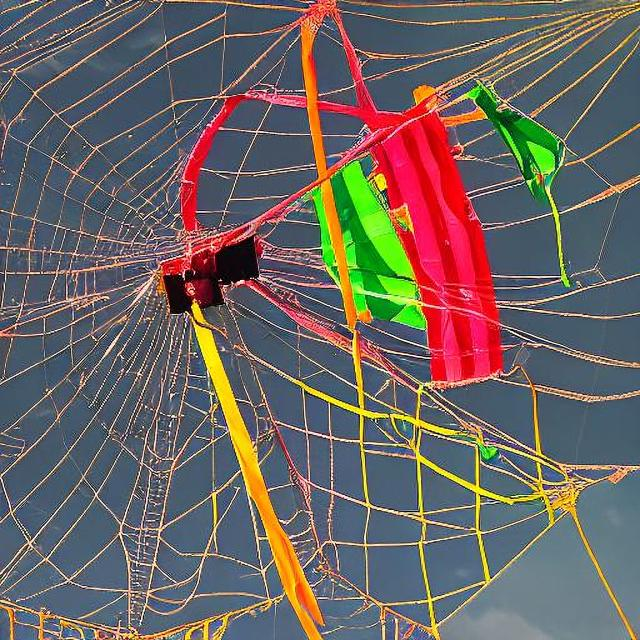floating object: (304, 80, 577, 386)
